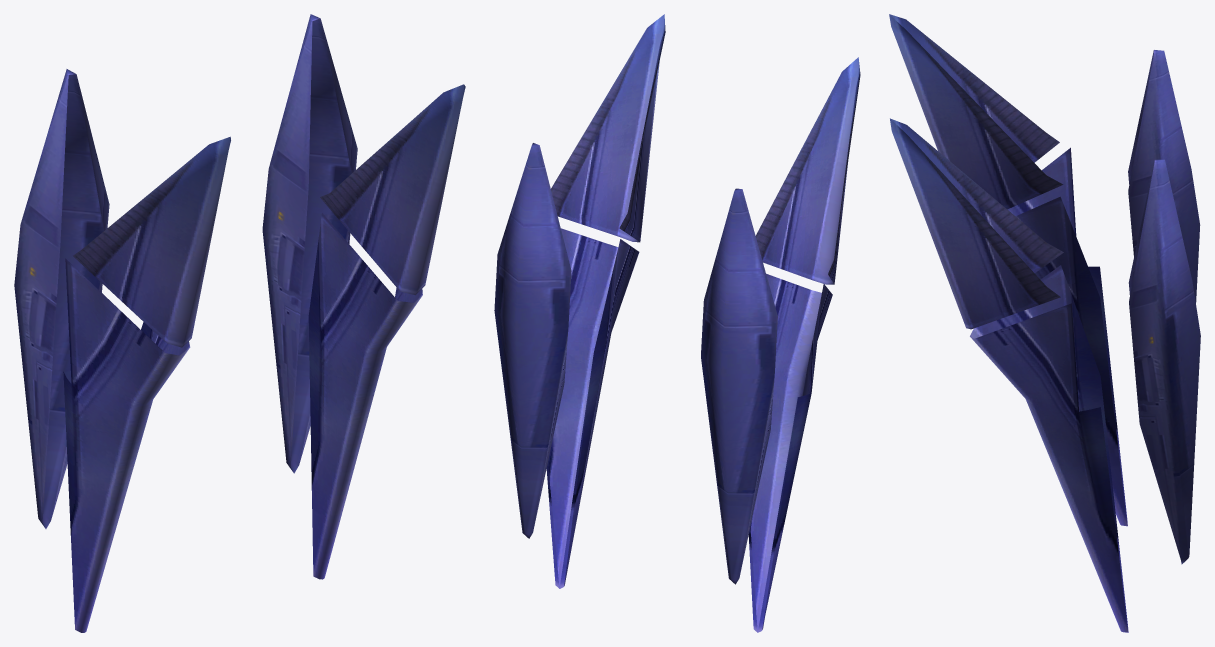
The model's file is arwingfuselage.obj.
3 renders of one model, left to right at view 1: azimuth 30°, elevation 25°; view 2: azimuth 150°, elevation 25°; view 3: azimuth 270°, elevation 25°, orthographic. The views are drawn at different scales.
Visible parts, largest first — view 1: polygon1; view 2: polygon1; view 3: polygon1.
Boxes of the visible parts, box(x1,y1,x2,y2) form: polygon1: box(14, 14, 465, 632); polygon1: box(494, 14, 860, 632); polygon1: box(889, 14, 1200, 632).
Size of the model in its own units: 6.84 by 11.18 by 6.04.
